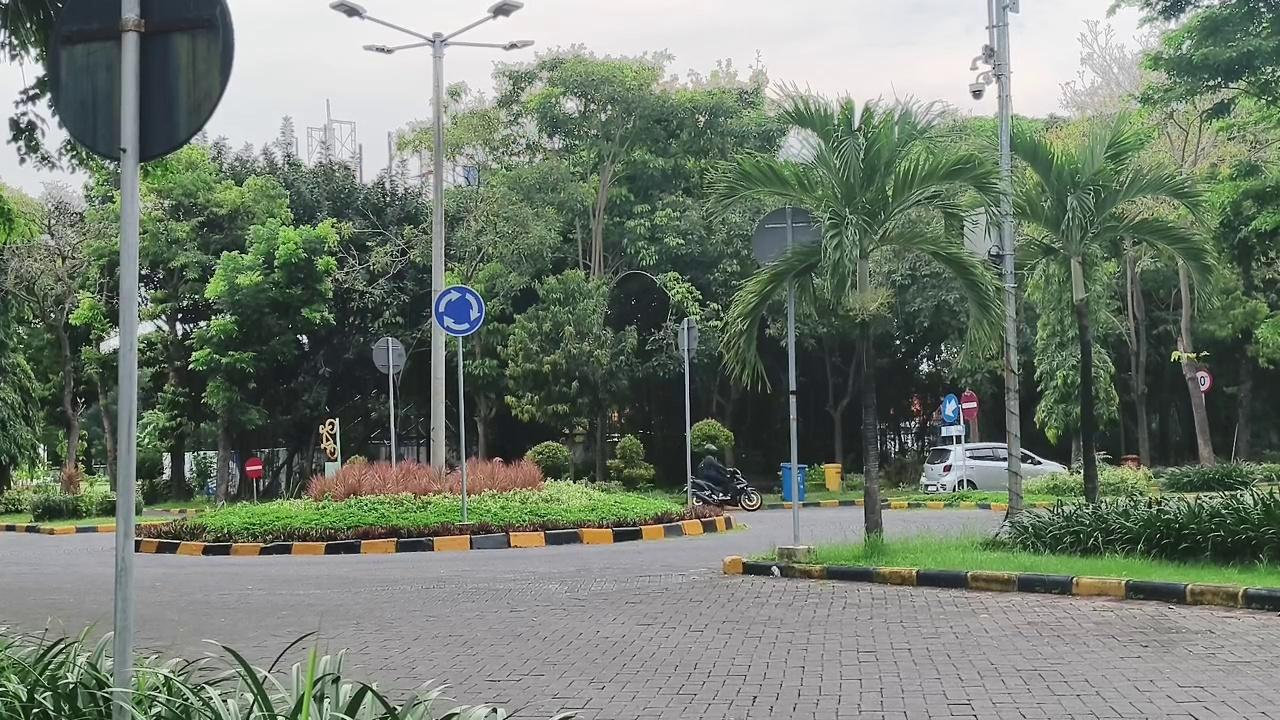Helmet: (695, 444, 734, 496)
Motor: (691, 468, 762, 511)
